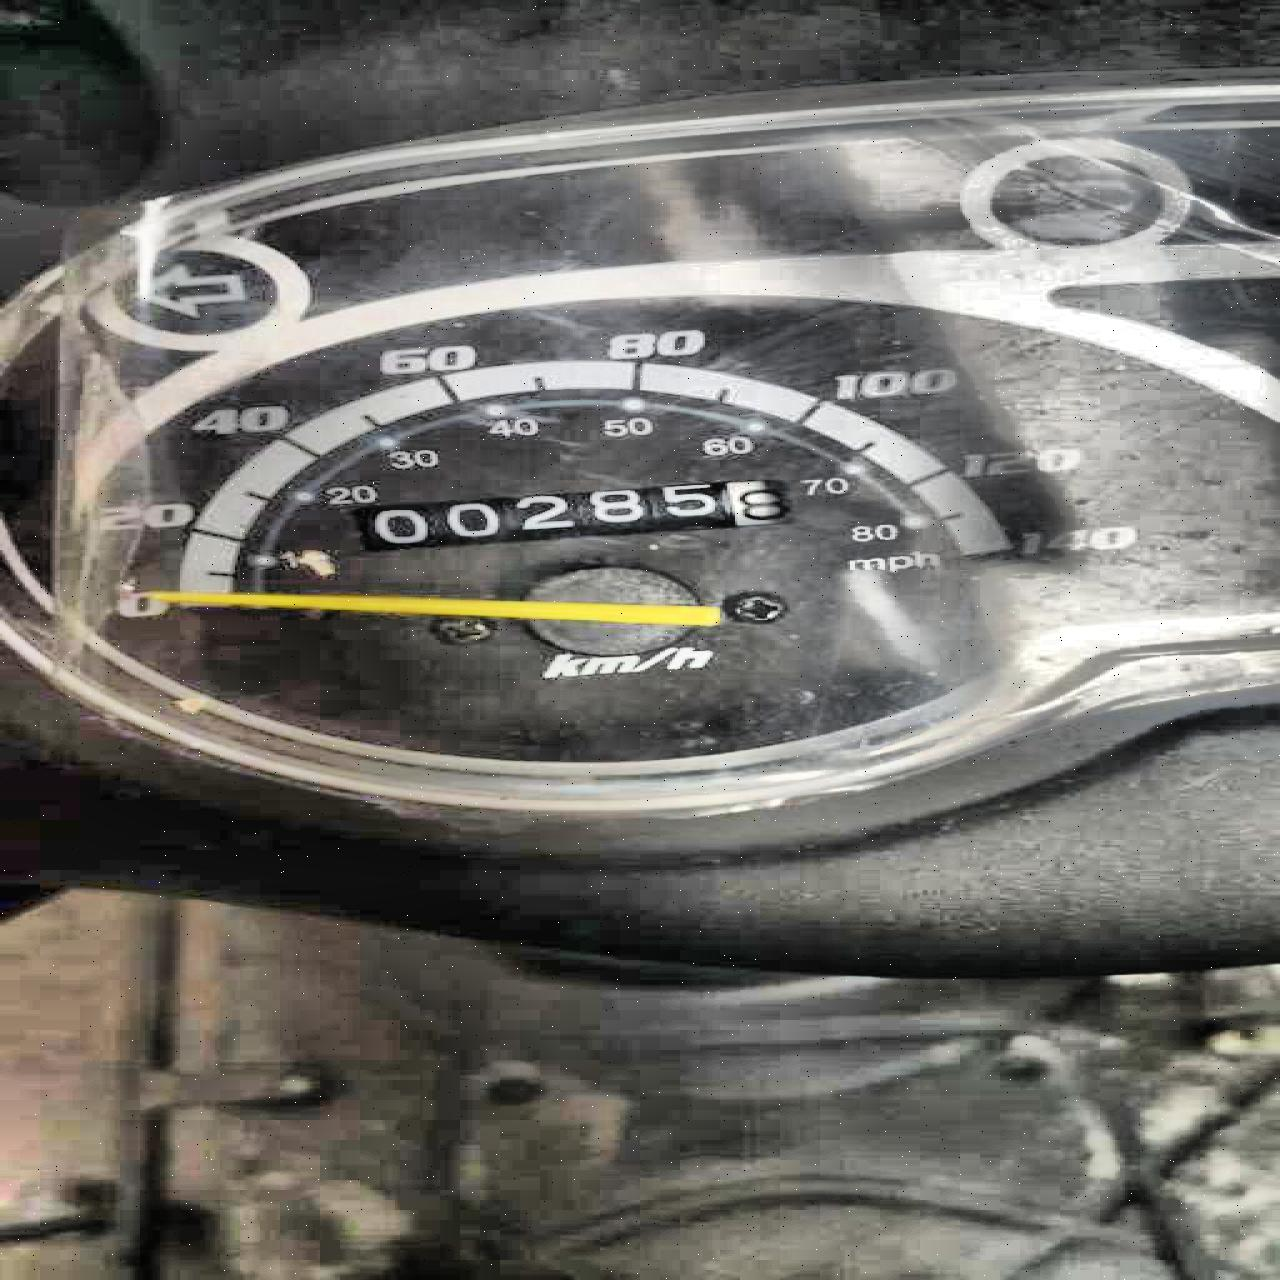0: (440, 502, 501, 538), (370, 506, 428, 544), (347, 484, 375, 502)
2: (512, 493, 576, 530), (322, 485, 349, 504)
5: (658, 482, 717, 517)
8: (585, 488, 642, 522), (733, 488, 790, 522)
odometer: (315, 475, 805, 554)
